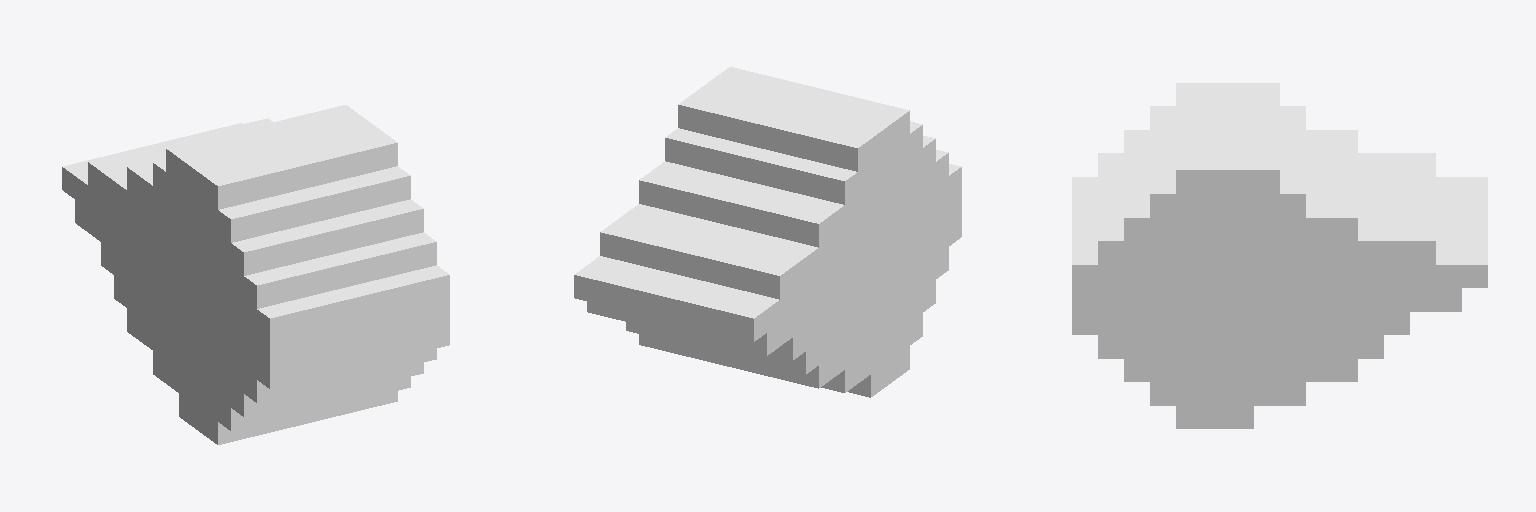
Rendered from fireball.obj.
3 renders of one model, left to right at view 1: azimuth 30°, elevation 25°; view 2: azimuth 150°, elevation 25°; view 3: azimuth 270°, elevation 25°, orthographic.
Parts seen in each view (by area): view 1: object 1; view 2: object 1; view 3: object 1.
Part boxes in pixels (left/top/right/bottom): object 1: left=62, top=105, right=449, bottom=444; object 1: left=574, top=67, right=961, bottom=397; object 1: left=1072, top=83, right=1487, bottom=428.
Bounding box in the file's own units: 0.8 × 1.1 × 1.6.